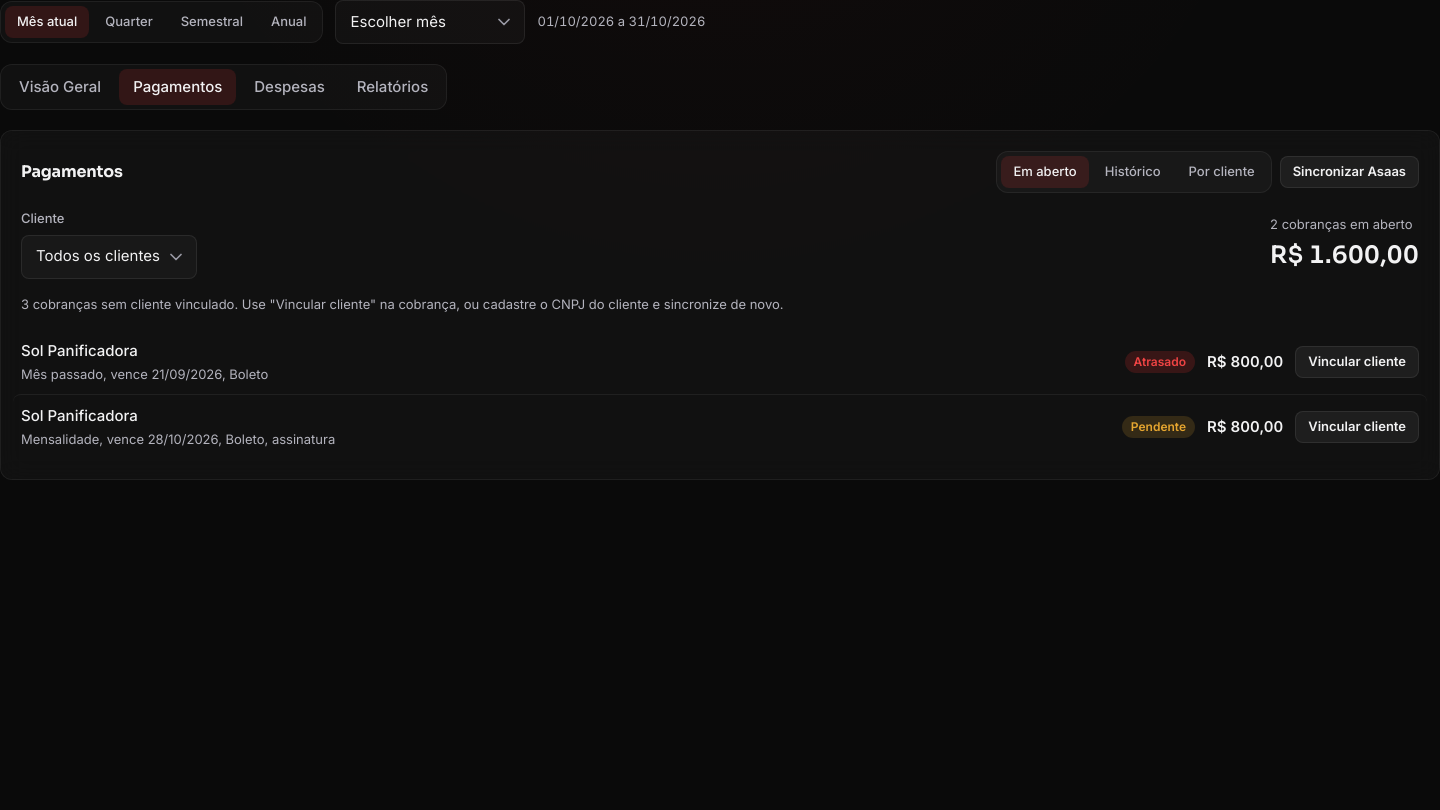
it: Pagamentos › não vincula sem escolher o cliente
The image size is (1440, 810).
Click the button with aria-label "Vincular cliente de Sol Panificadora": {"x": 1357, "y": 362} [1295, 346, 1419, 378]
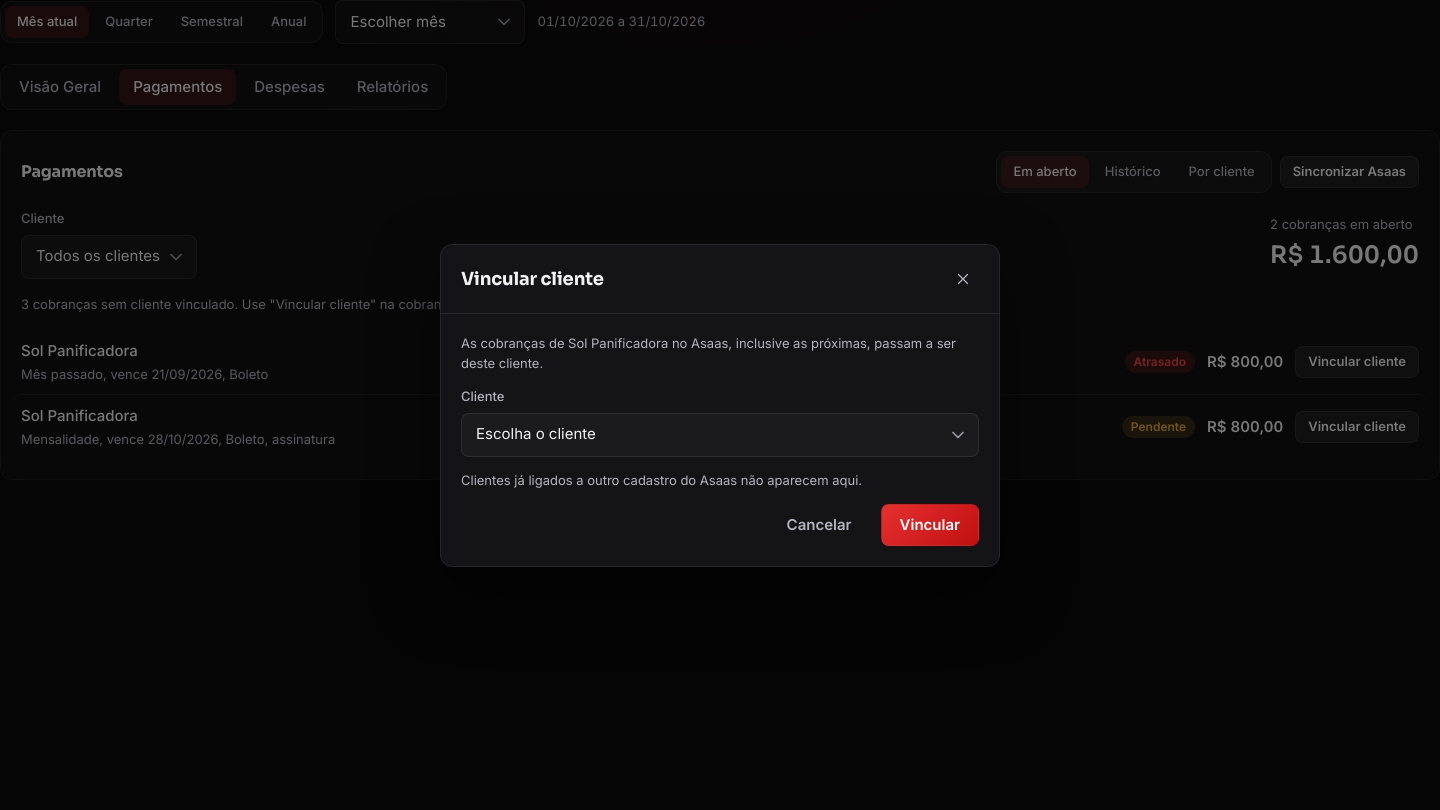
Click the button "Vincular": {"x": 930, "y": 524} [881, 504, 979, 546]
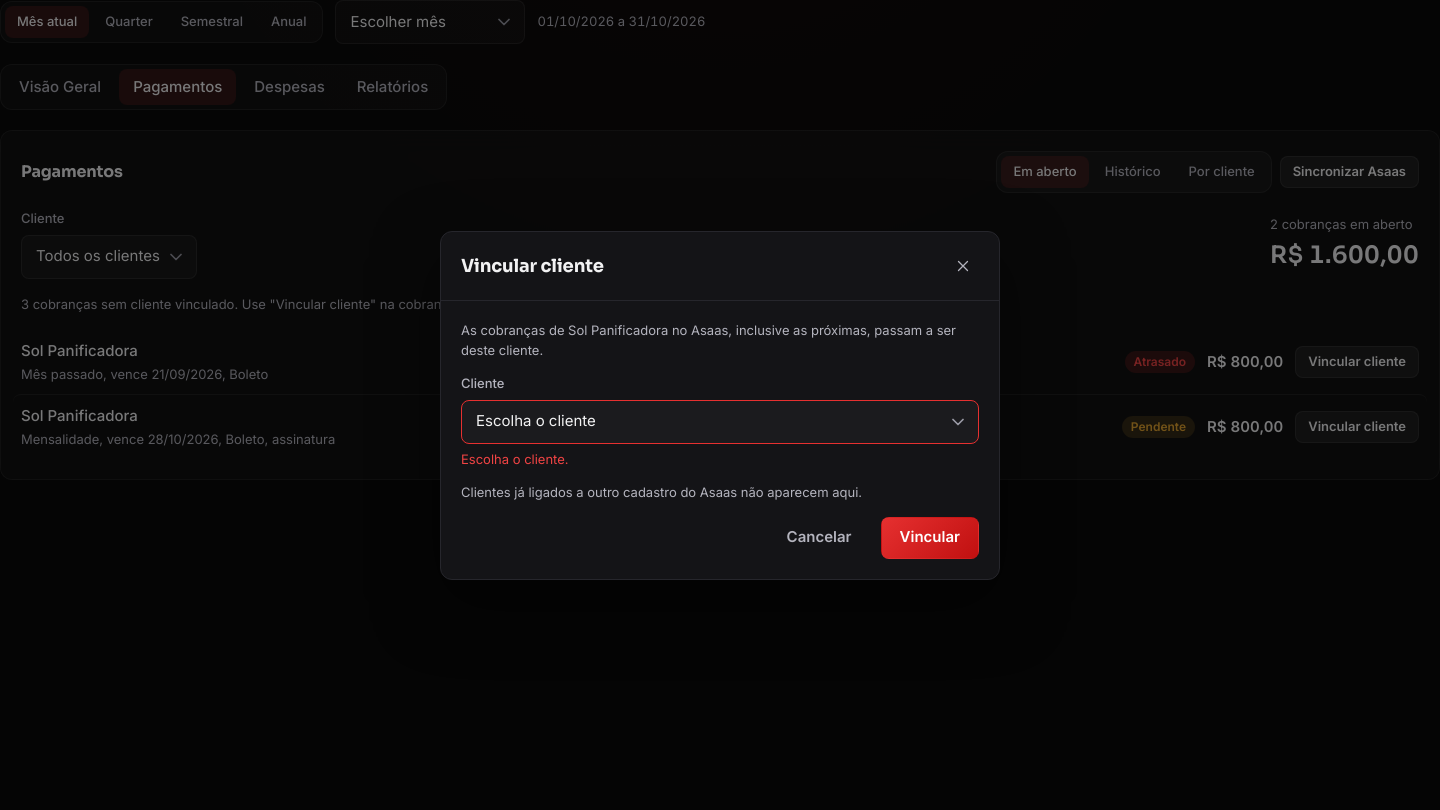
Check: the text "Escolha o cliente." is shown, box [461, 450, 569, 466]
